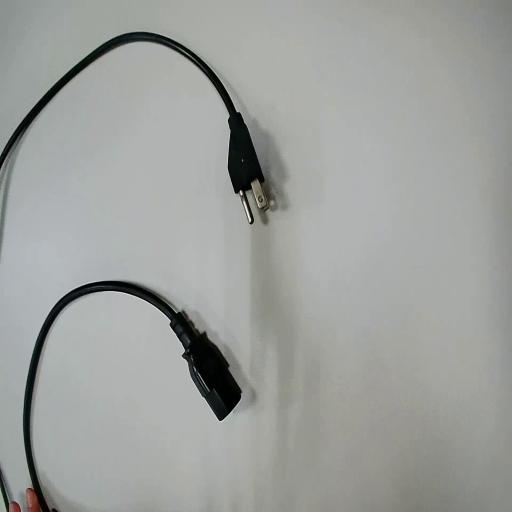wire: (24, 281, 240, 511), (0, 33, 265, 200)
